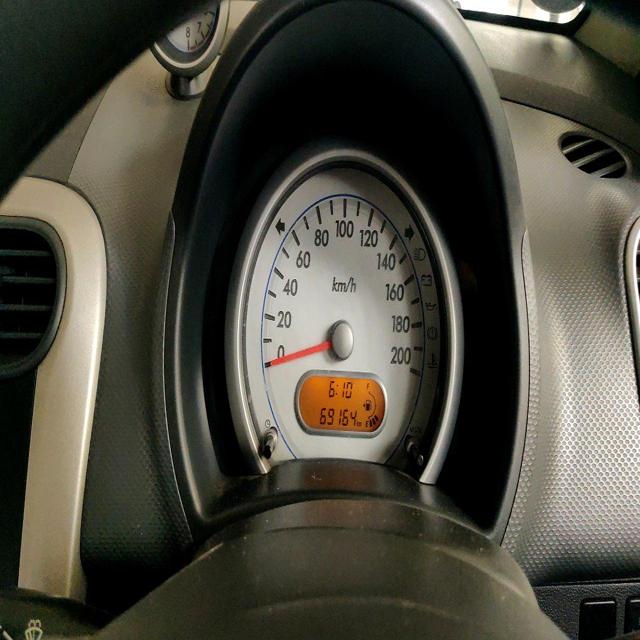odometer: (317, 402, 360, 431)
